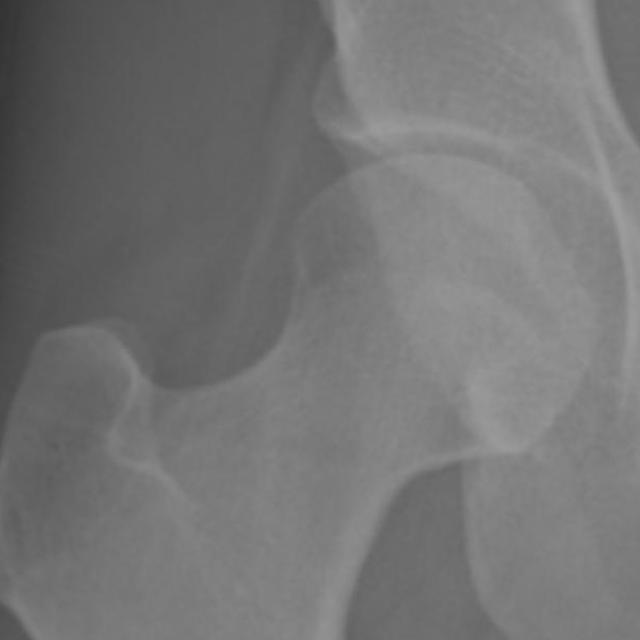Fitted_femural_head: (328, 154, 432, 328)
